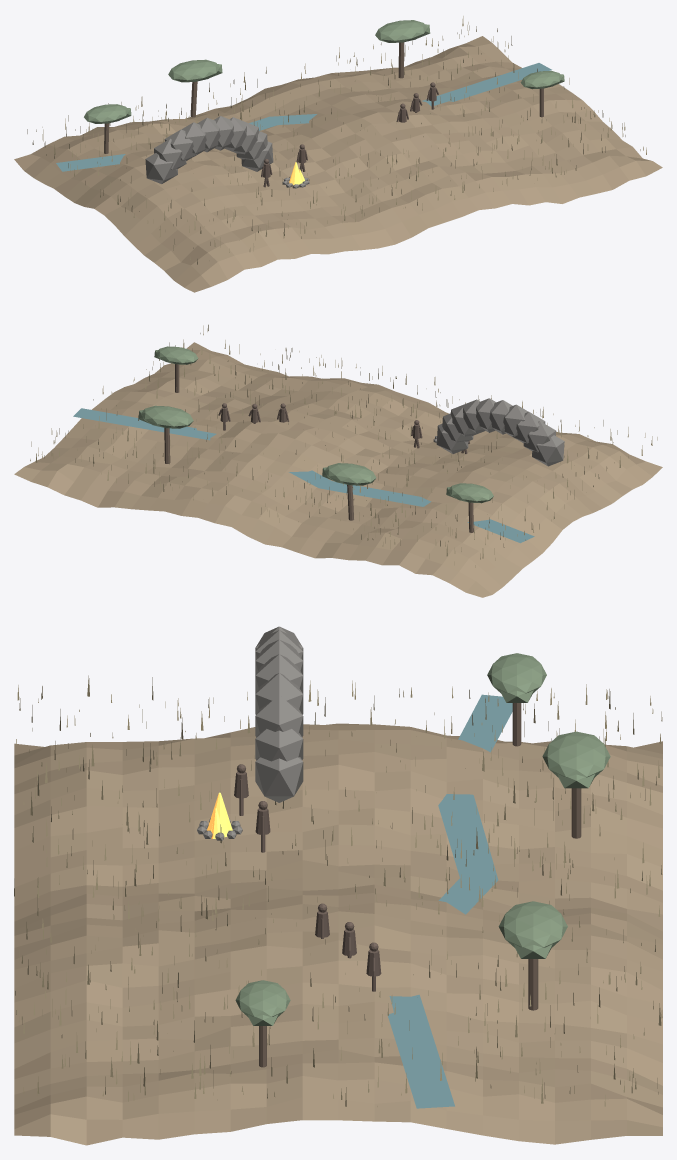
File: world-03-horizon.glb
The picture shows the model from 3 angles, top to bottom: view 1: azimuth 30°, elevation 25°; view 2: azimuth 150°, elevation 25°; view 3: azimuth 270°, elevation 25°; orthographic projection. The views are drawn at different scales.
Visible parts, largest first — view 1: BH_WORLD_03_Terrain.003, BH_WORLD_03_Batch_05, Dusk_Grass.003, BH_WORLD_03_Batch_04, BH_WORLD_03_River.003, BH_WORLD_03_Batch_07, BH_WORLD_03_Batch_03; view 2: BH_WORLD_03_Terrain.003, BH_WORLD_03_Batch_05, Dusk_Grass.003, BH_WORLD_03_Batch_04, BH_WORLD_03_River.003, BH_WORLD_03_Batch_07, BH_WORLD_03_Batch_03; view 3: BH_WORLD_03_Terrain.003, Dusk_Grass.003, BH_WORLD_03_River.003, BH_WORLD_03_Batch_04, BH_WORLD_03_Batch_05, BH_WORLD_03_Batch_07, BH_WORLD_03_Batch_03.
Boxes of the visible parts, box(x1,y1,x2,y2) form: BH_WORLD_03_Terrain.003: box(14, 36, 662, 292); BH_WORLD_03_Batch_05: box(145, 116, 309, 188); Dusk_Grass.003: box(27, 16, 646, 264); BH_WORLD_03_Batch_04: box(84, 20, 564, 123); BH_WORLD_03_River.003: box(56, 63, 551, 171); BH_WORLD_03_Batch_07: box(261, 82, 438, 187); BH_WORLD_03_Batch_03: box(104, 42, 543, 153); BH_WORLD_03_Terrain.003: box(14, 342, 662, 597); BH_WORLD_03_Batch_05: box(433, 398, 564, 466); Dusk_Grass.003: box(30, 324, 657, 567); BH_WORLD_03_Batch_04: box(138, 346, 493, 503); BH_WORLD_03_River.003: box(73, 408, 534, 543); BH_WORLD_03_Batch_07: box(218, 403, 469, 453); BH_WORLD_03_Batch_03: box(164, 364, 473, 532); BH_WORLD_03_Terrain.003: box(14, 723, 662, 1145); Dusk_Grass.003: box(14, 675, 662, 1106); BH_WORLD_03_River.003: box(388, 694, 512, 1108); BH_WORLD_03_Batch_04: box(235, 653, 610, 1025); BH_WORLD_03_Batch_05: box(197, 626, 303, 840); BH_WORLD_03_Batch_07: box(234, 764, 381, 991); BH_WORLD_03_Batch_03: box(259, 703, 581, 1067).
Bounding box in the file's own units: 18.13 × 3.79 × 12.01.
